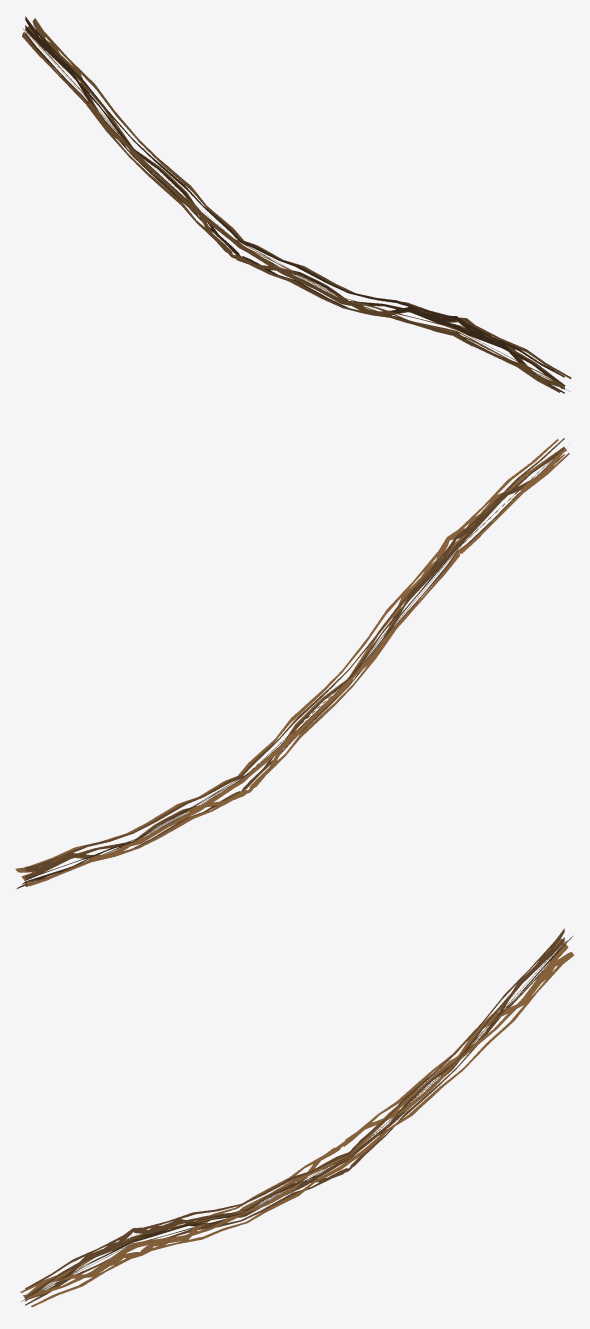
File: Ivy 4.FBX
3 views of the same model, one above another, from view 1: azimuth 30°, elevation 25°; view 2: azimuth 150°, elevation 25°; view 3: azimuth 330°, elevation 25° (orthographic).
Visible parts, largest first — view 1: Plane002; view 2: Plane002; view 3: Plane002.
Boxes of the visible parts, x1,y1,x2,y2 form: Plane002: [22, 16, 571, 393]; Plane002: [15, 438, 569, 889]; Plane002: [20, 928, 574, 1307].
Bounding box in the file's own units: 1.45 × 7.98 × 60.81.
